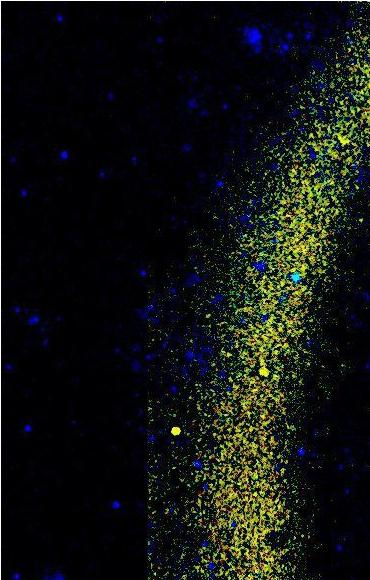star: (161, 414, 191, 444)
